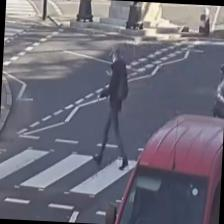person: (91, 44, 134, 170)
